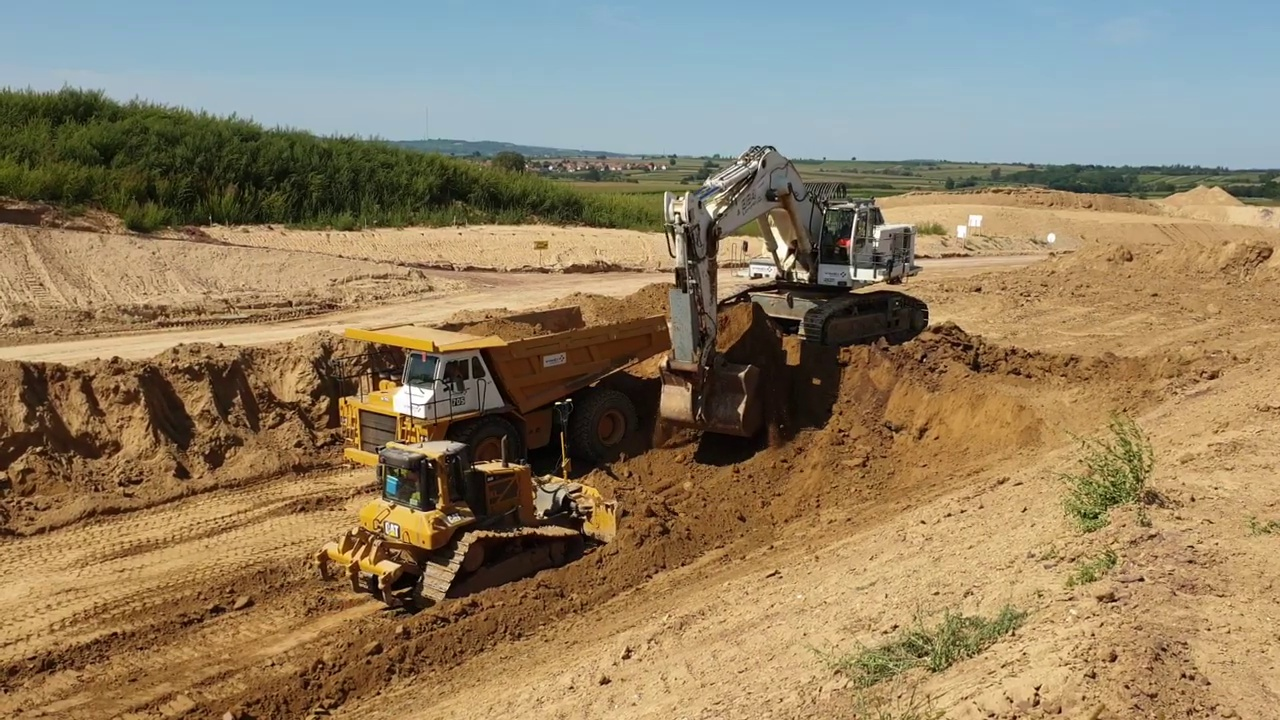bulldozer: (315, 398, 623, 614)
excavator: (659, 143, 929, 447)
truck: (329, 300, 676, 496)
